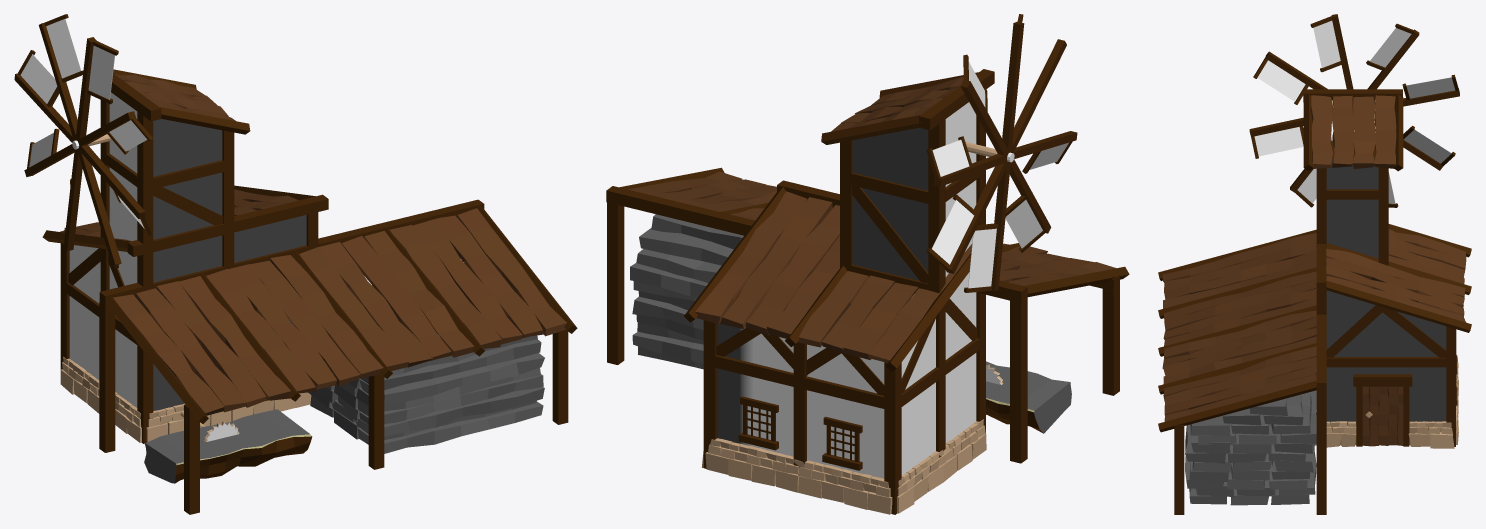
Rendered from Sawmill.fbx.
3 views of the same model, side by side, from view 1: azimuth 30°, elevation 25°; view 2: azimuth 150°, elevation 25°; view 3: azimuth 270°, elevation 25° (orthographic). The views are drawn at different scales.
Visible parts, largest first — view 1: Building.118, Mill, Wood 2, Wood 3, Wood 1, Wood 4; view 2: Building.118, Mill, Wood 5, Wood 4, Wood 1, Wood 3, Wood 2; view 3: Building.118, Mill, Wood 5, Wood 4, Wood 3, Wood 2, Wood 1.
Boxes of the visible parts, left/top/right/bottom form: Building.118: left=42, top=69, right=577, bottom=514; Mill: left=14, top=14, right=152, bottom=268; Wood 2: left=316, top=374, right=544, bottom=436; Wood 3: left=340, top=353, right=544, bottom=411; Wood 1: left=308, top=391, right=543, bottom=453; Wood 4: left=360, top=335, right=541, bottom=389; Building.118: left=606, top=69, right=1129, bottom=514; Mill: left=926, top=14, right=1077, bottom=292; Wood 5: left=636, top=214, right=743, bottom=282; Wood 4: left=630, top=263, right=708, bottom=300; Wood 1: left=632, top=331, right=703, bottom=369; Wood 3: left=632, top=291, right=703, bottom=329; Wood 2: left=636, top=314, right=703, bottom=344; Building.118: left=1158, top=89, right=1471, bottom=514; Mill: left=1249, top=14, right=1459, bottom=207; Wood 5: left=1190, top=392, right=1311, bottom=435; Wood 4: left=1191, top=370, right=1316, bottom=453; Wood 3: left=1185, top=424, right=1313, bottom=472; Wood 2: left=1185, top=456, right=1309, bottom=489; Wood 1: left=1189, top=444, right=1316, bottom=505.
Bounding box in the file's own units: 1216 × 1229 × 1013.
